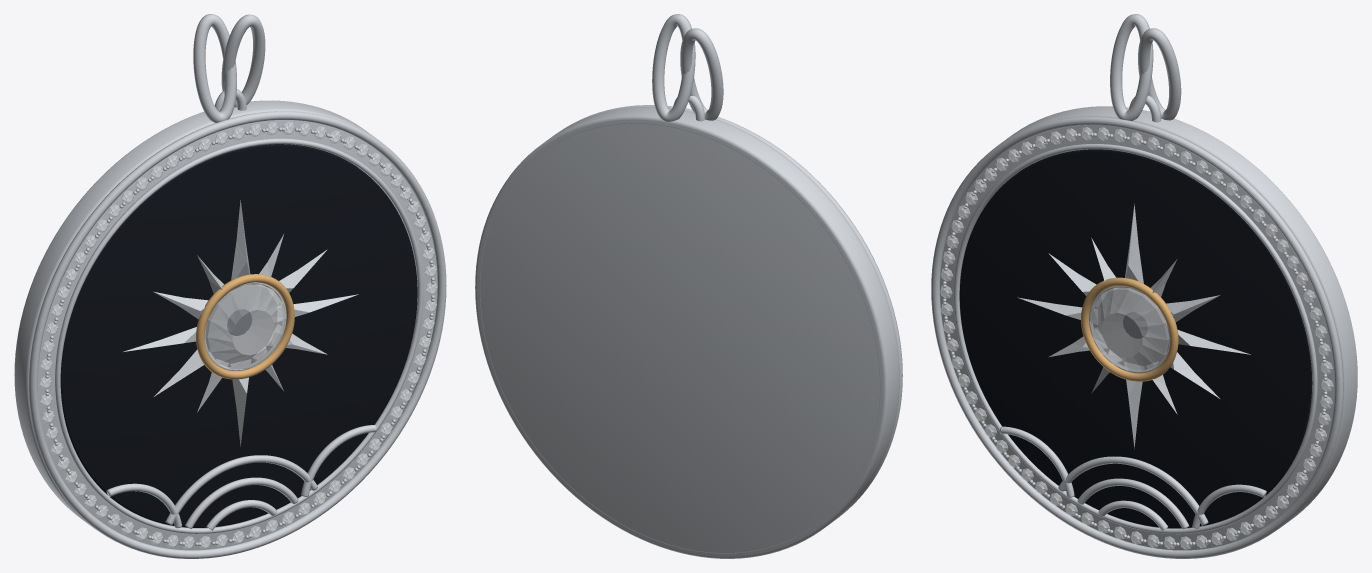
The model's file is emoria-lumen-pendant.glb.
3 renders of one model, left to right at view 1: azimuth 30°, elevation 25°; view 2: azimuth 150°, elevation 25°; view 3: azimuth 330°, elevation 25°, orthographic.
Parts seen in each view (by area): view 1: Lumen pendant / Black enamel, Lumen pendant / Polished silver, Lumen pendant / Faceted crystal, Lumen pendant / Warm gold bezel; view 2: Lumen pendant / Polished silver; view 3: Lumen pendant / Black enamel, Lumen pendant / Polished silver, Lumen pendant / Faceted crystal, Lumen pendant / Warm gold bezel.
Part boxes in pixels (x1,y1,x2,y2): Lumen pendant / Black enamel: (60, 144, 417, 527); Lumen pendant / Polished silver: (14, 14, 446, 558); Lumen pendant / Faceted crystal: (39, 121, 437, 549); Lumen pendant / Warm gold bezel: (196, 274, 294, 379); Lumen pendant / Polished silver: (475, 14, 902, 558); Lumen pendant / Black enamel: (959, 149, 1312, 528); Lumen pendant / Polished silver: (931, 14, 1357, 558); Lumen pendant / Faceted crystal: (939, 127, 1333, 549); Lumen pendant / Warm gold bezel: (1081, 277, 1178, 381).
Bounding box in the file's own units: 0.028 × 0.0342 × 0.00375.
